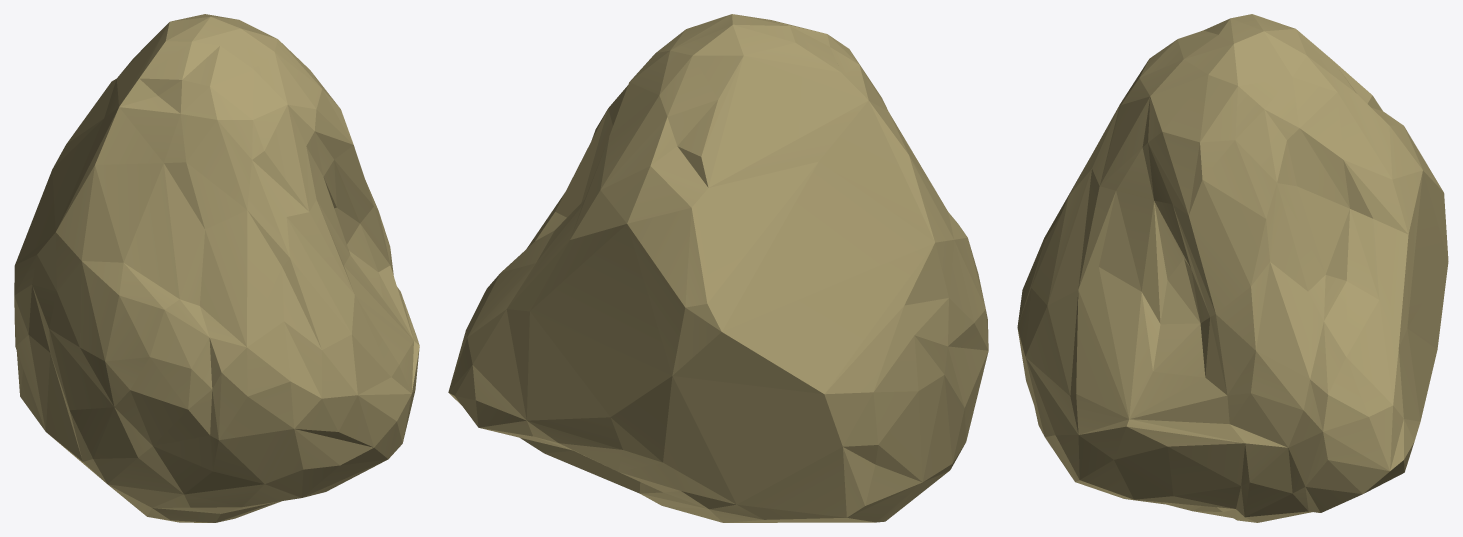
Rendered from SM_rock_01.fbx.
3 views of the same model, side by side, from view 1: azimuth 30°, elevation 25°; view 2: azimuth 150°, elevation 25°; view 3: azimuth 270°, elevation 25° (orthographic). The views are drawn at different scales.
Parts seen in each view (by area): view 1: rock_01; view 2: rock_01; view 3: rock_01.
Part boxes in pixels (left/top/right/bottom): rock_01: left=14, top=14, right=419, bottom=522; rock_01: left=448, top=14, right=988, bottom=522; rock_01: left=1017, top=14, right=1448, bottom=522.
Bounding box in the file's own units: 152 × 177 × 145.
